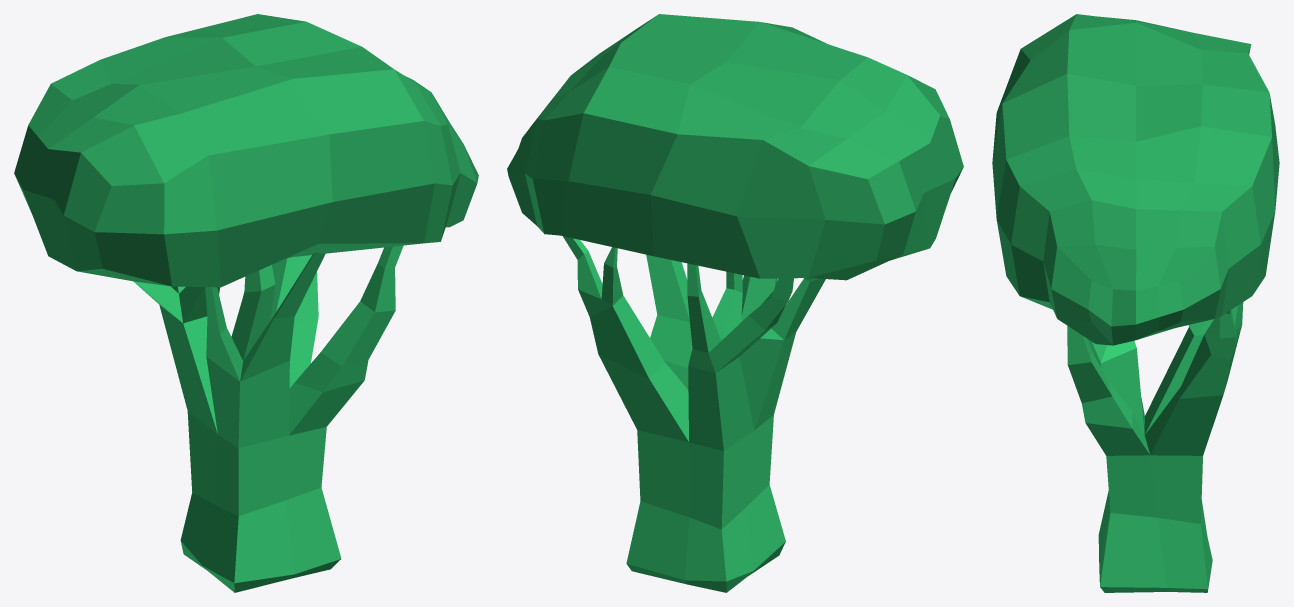
Rendered from broccoli 1.fbx.
3 views of the same model, side by side, from view 1: azimuth 30°, elevation 25°; view 2: azimuth 150°, elevation 25°; view 3: azimuth 270°, elevation 25° (orthographic). The views are drawn at different scales.
Visible parts, largest first — view 1: Cube.002; view 2: Cube.002; view 3: Cube.002.
Part boxes in pixels (x1,y1,x2,y2): Cube.002: [14, 14, 478, 592]; Cube.002: [507, 14, 963, 592]; Cube.002: [992, 14, 1279, 592].
Bounding box in the file's own units: 626 × 726 × 383.
